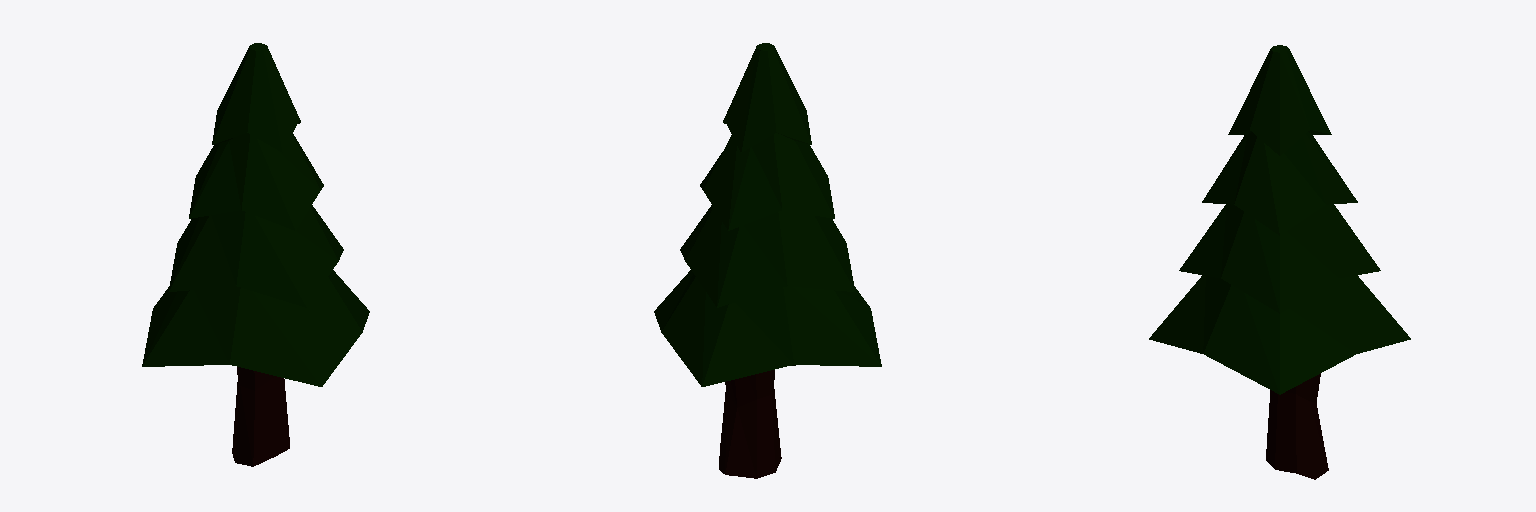
File: arbolitodefinitivo.obj
3 views of the same model, side by side, from view 1: azimuth 30°, elevation 25°; view 2: azimuth 150°, elevation 25°; view 3: azimuth 270°, elevation 25° (orthographic).
Parts seen in each view (by area): view 1: Cylinder; view 2: Cylinder; view 3: Cylinder.
Part boxes in pixels (x1,y1,x2,y2): Cylinder: (142, 43, 369, 466); Cylinder: (654, 43, 881, 478); Cylinder: (1149, 45, 1410, 479).
Bounding box in the file's own units: 5.8 × 10.12 × 5.8.